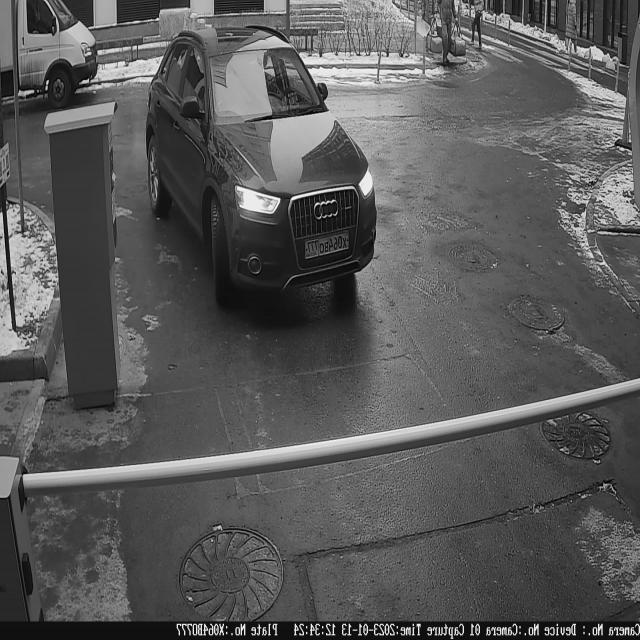car-plate-numbers: (305, 228, 351, 264)
